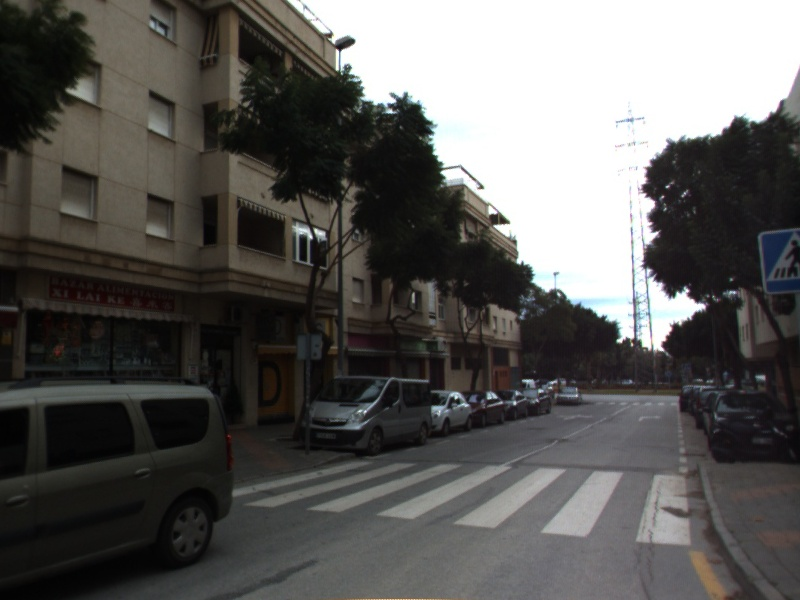RIGHT: (636, 413, 664, 423)
